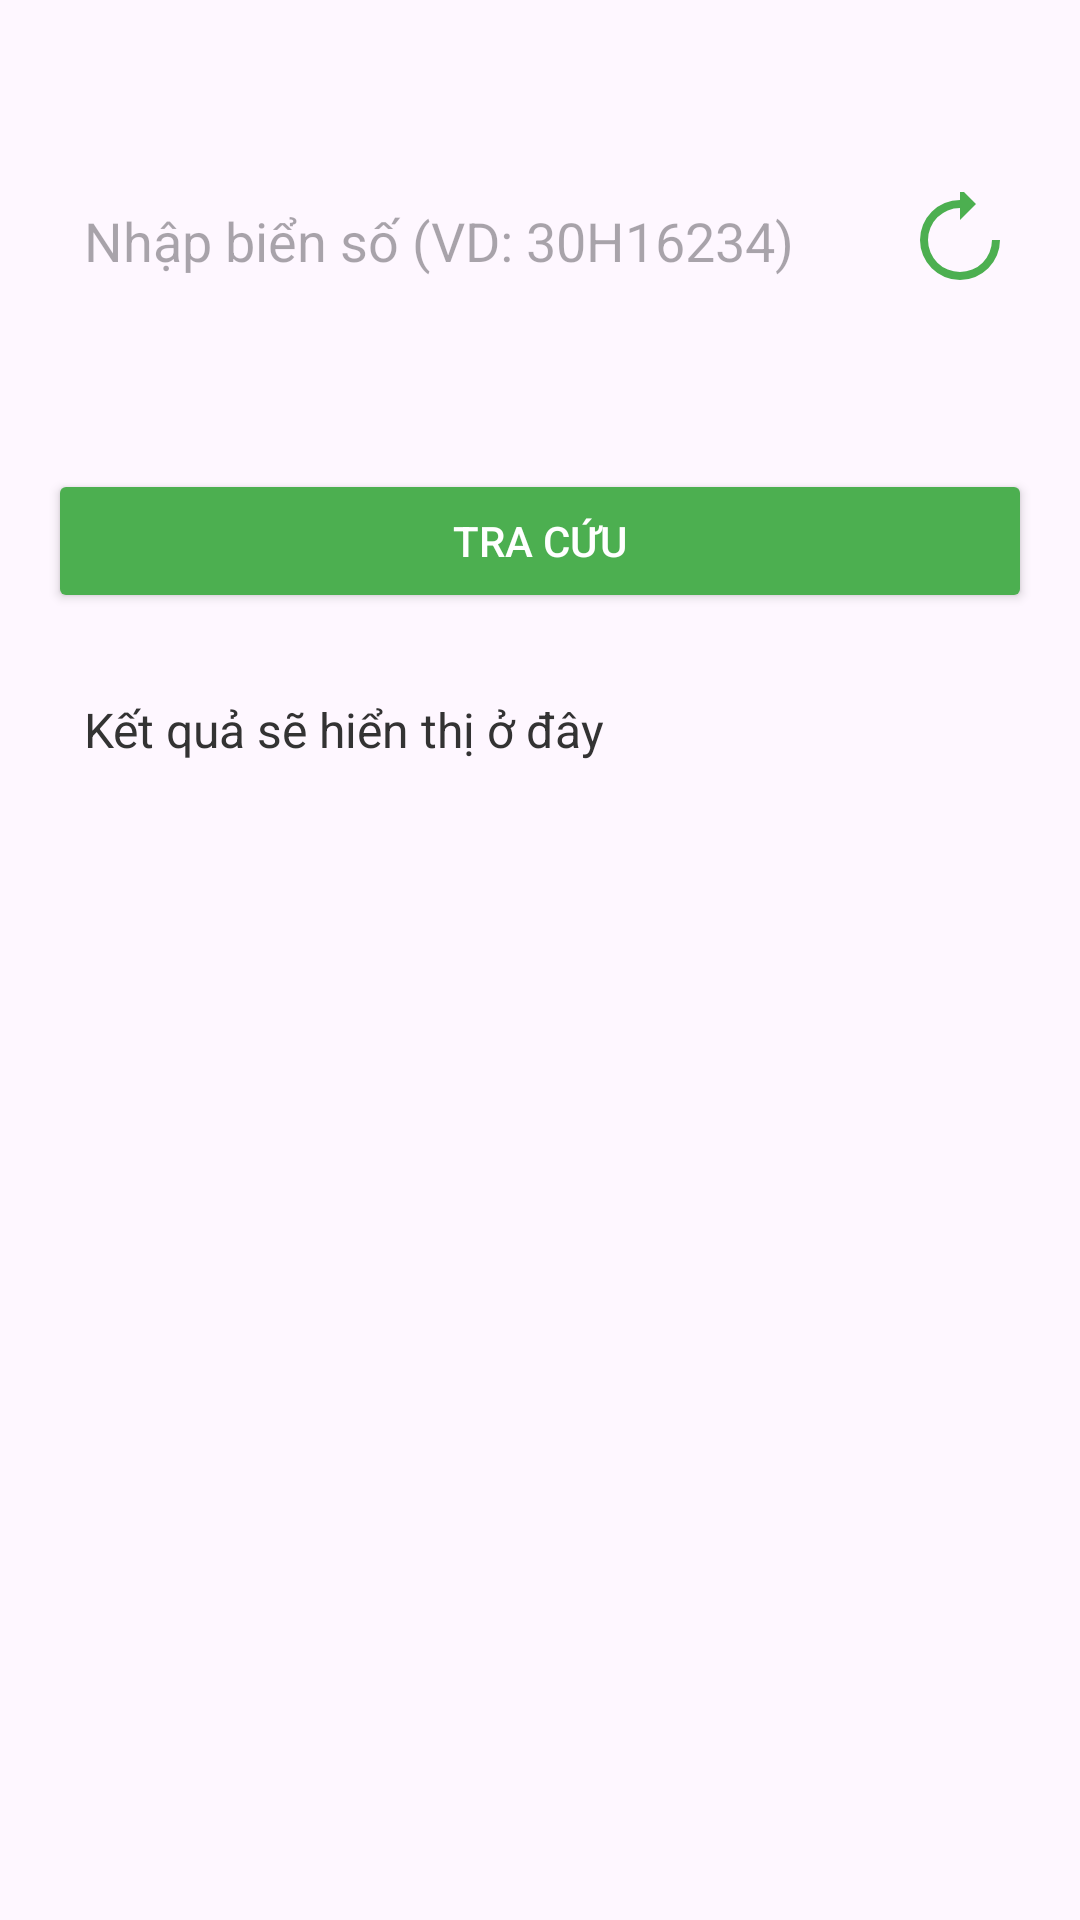

Icons on this 1080×1920 Android screen, each with its box as (x1, y1, x2, y2):
Load captcha: (920, 192, 1000, 280)
